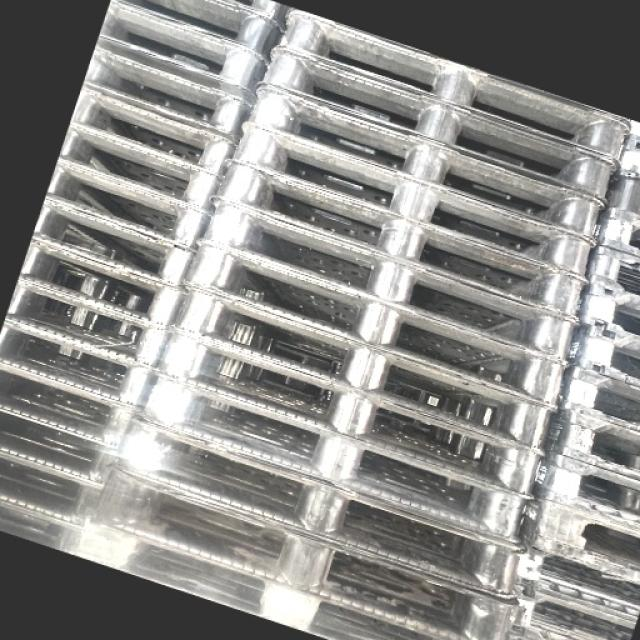igps: (99, 395, 533, 609), (80, 446, 525, 640), (123, 357, 541, 562), (140, 312, 552, 508), (160, 270, 566, 463), (178, 232, 575, 425), (192, 187, 586, 377), (205, 152, 596, 332), (218, 116, 602, 290), (237, 80, 613, 249), (248, 46, 626, 210), (264, 3, 635, 170), (58, 500, 482, 640), (73, 34, 262, 154), (0, 263, 183, 383), (15, 224, 193, 340), (61, 76, 243, 188), (25, 186, 201, 299), (89, 0, 273, 106), (0, 308, 164, 426), (51, 114, 226, 224), (38, 151, 216, 258), (0, 352, 147, 457), (86, 0, 292, 69), (0, 395, 129, 495), (511, 489, 640, 581), (506, 538, 640, 620), (0, 438, 110, 533), (524, 452, 640, 531), (536, 405, 639, 487), (0, 486, 88, 559), (552, 367, 640, 434), (557, 322, 640, 387), (568, 280, 640, 348), (578, 241, 640, 305), (206, 0, 294, 39), (588, 164, 640, 222), (592, 202, 640, 262), (610, 116, 640, 182)
